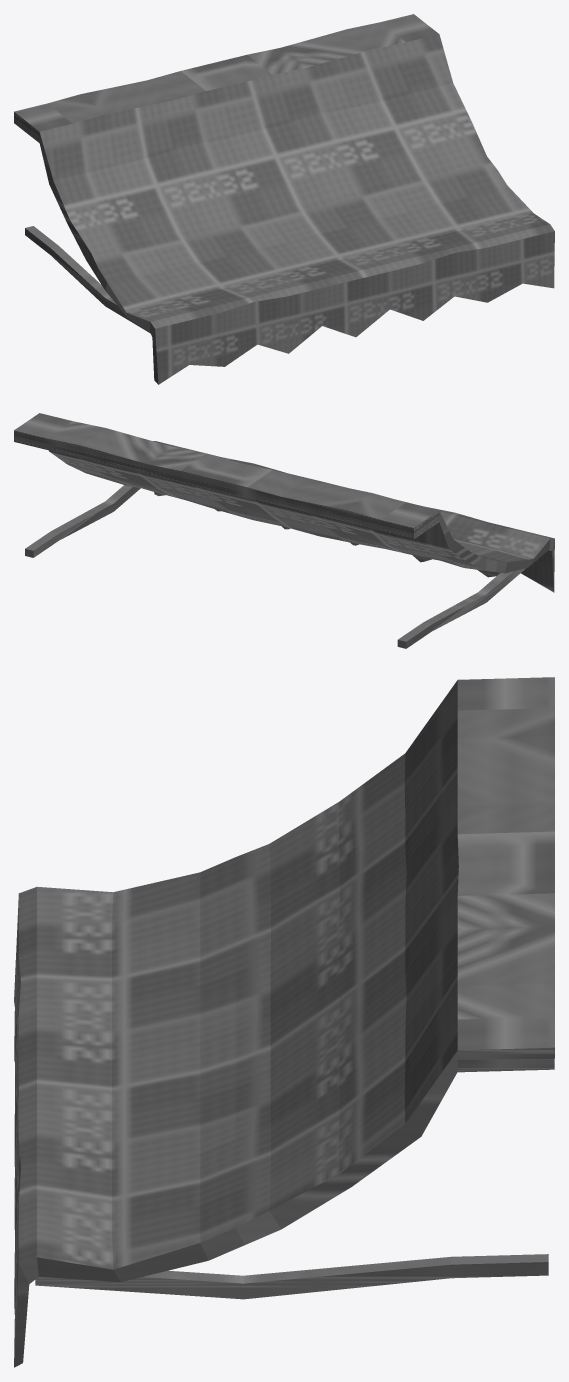
The model's file is storeFront.fbx.
3 views of the same model, one above another, from view 1: azimuth 30°, elevation 25°; view 2: azimuth 150°, elevation 25°; view 3: azimuth 270°, elevation 25° (orthographic). The views are drawn at different scales.
Visible parts, largest first — view 1: Cube; view 2: Cube; view 3: Cube.
Part boxes in pixels (<box>): Cube: <box>14,14,554,384</box>; Cube: <box>14,413,554,648</box>; Cube: <box>14,677,554,1367</box>.
Bounding box in the file's own units: 12.46 × 7.55 × 5.02.
